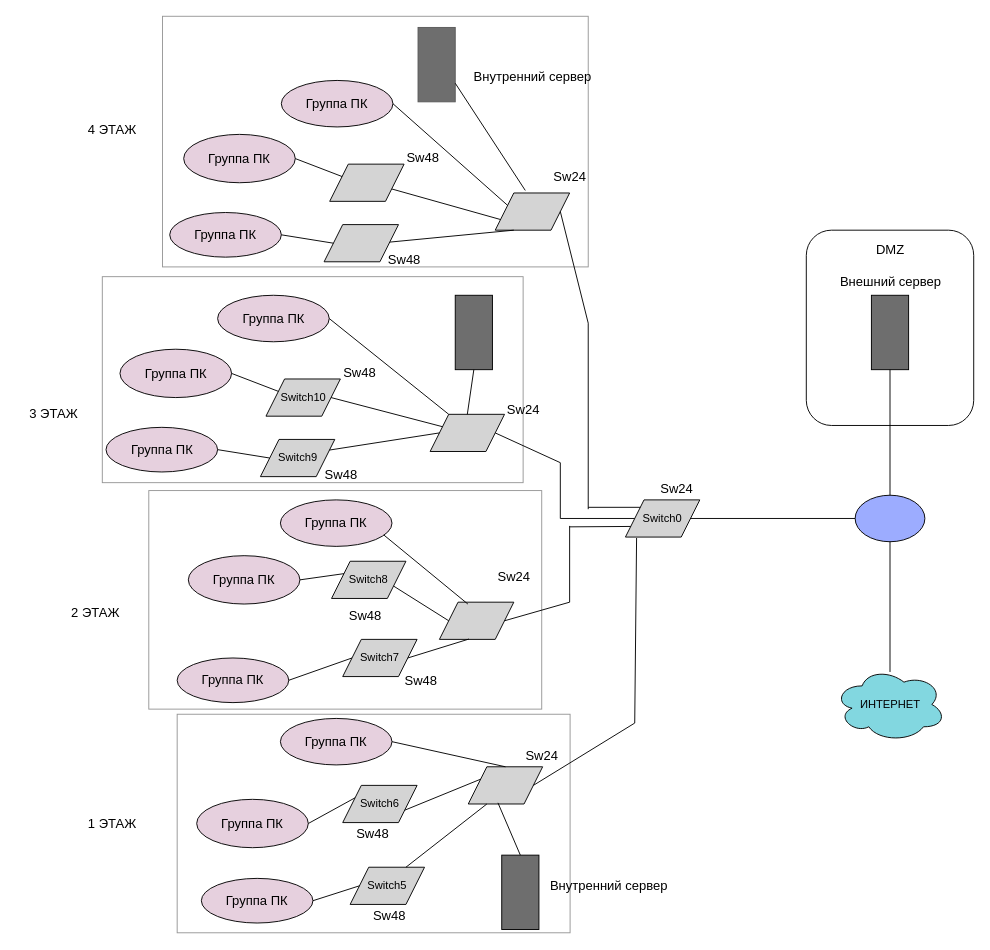
The diagram is 990 pixels wide and 950 high, and some of its shapes have lost their labels. The shapes that lost their labels are listed below. From the top down, each one's centre as x and y in pixels, then its label:
the point at 366,182: Switch12
the point at 532,211: Switch4
the point at 361,243: Switch11
the point at 467,432: Switch3
the point at 889,518: ROUTER
the point at 476,620: Switch2
the point at 505,785: Switch1
